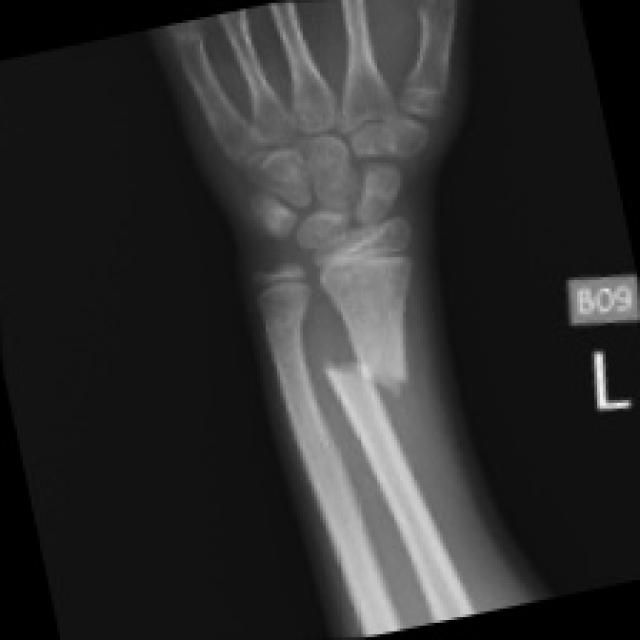fracture: (318, 304, 433, 432)
